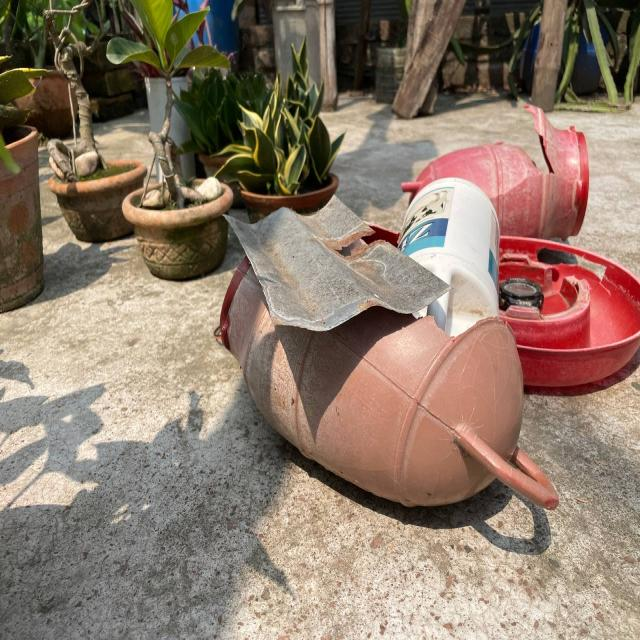E-waste: (499, 268, 548, 310)
Metal: (213, 186, 447, 336)
Plastics: (262, 348, 586, 536), (441, 126, 640, 406)
